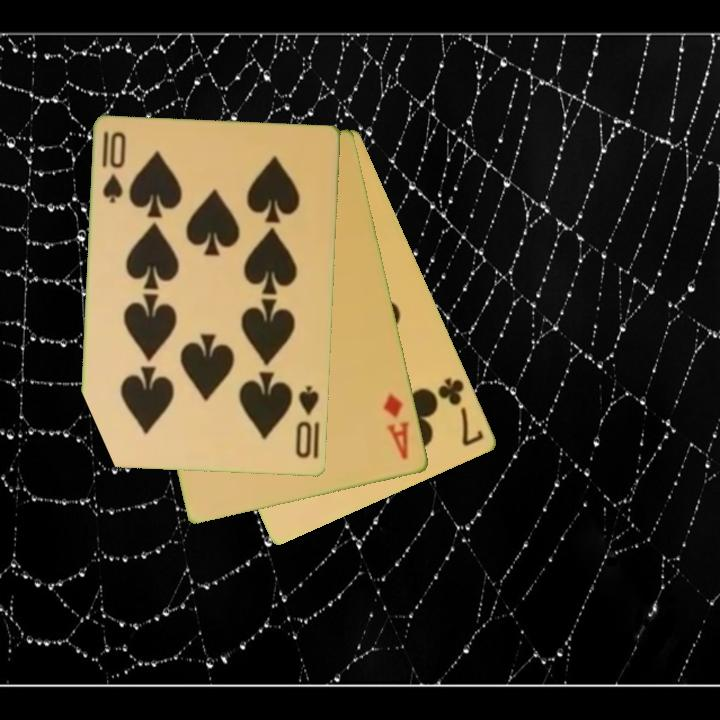10s: (292, 382, 323, 462), (99, 128, 129, 207)
7c: (434, 374, 488, 450)
Ad: (380, 390, 413, 463)
